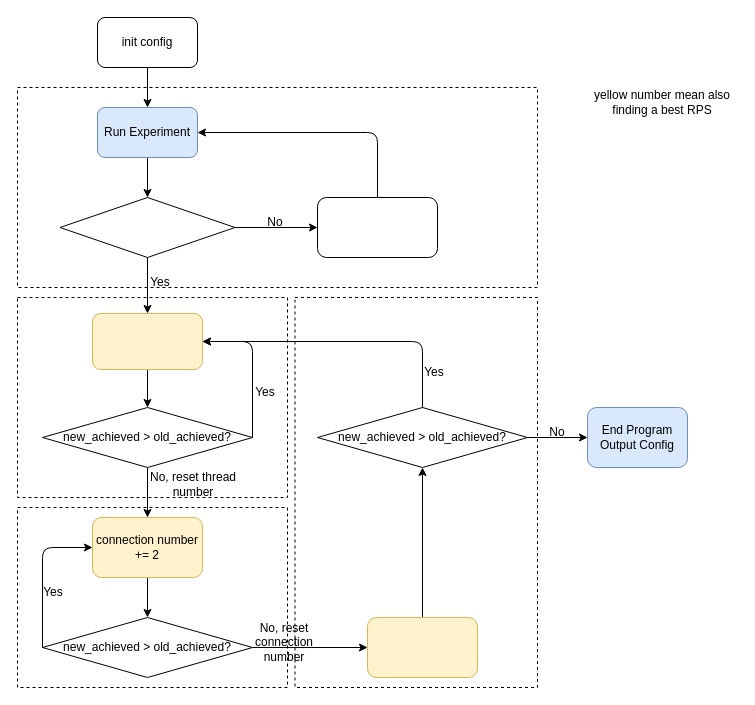
Some shapes in this 755 by 705 pixel diagram are drawn without their labels. Here are the shapes that lost their labels. From the top down, the centre of each, then its label:
the point at 147,227: offered - achieved > 20?
the point at 377,227: RPS += 10
the point at 147,341: thread number += 1
the point at 422,647: Add N cpu cores to application
